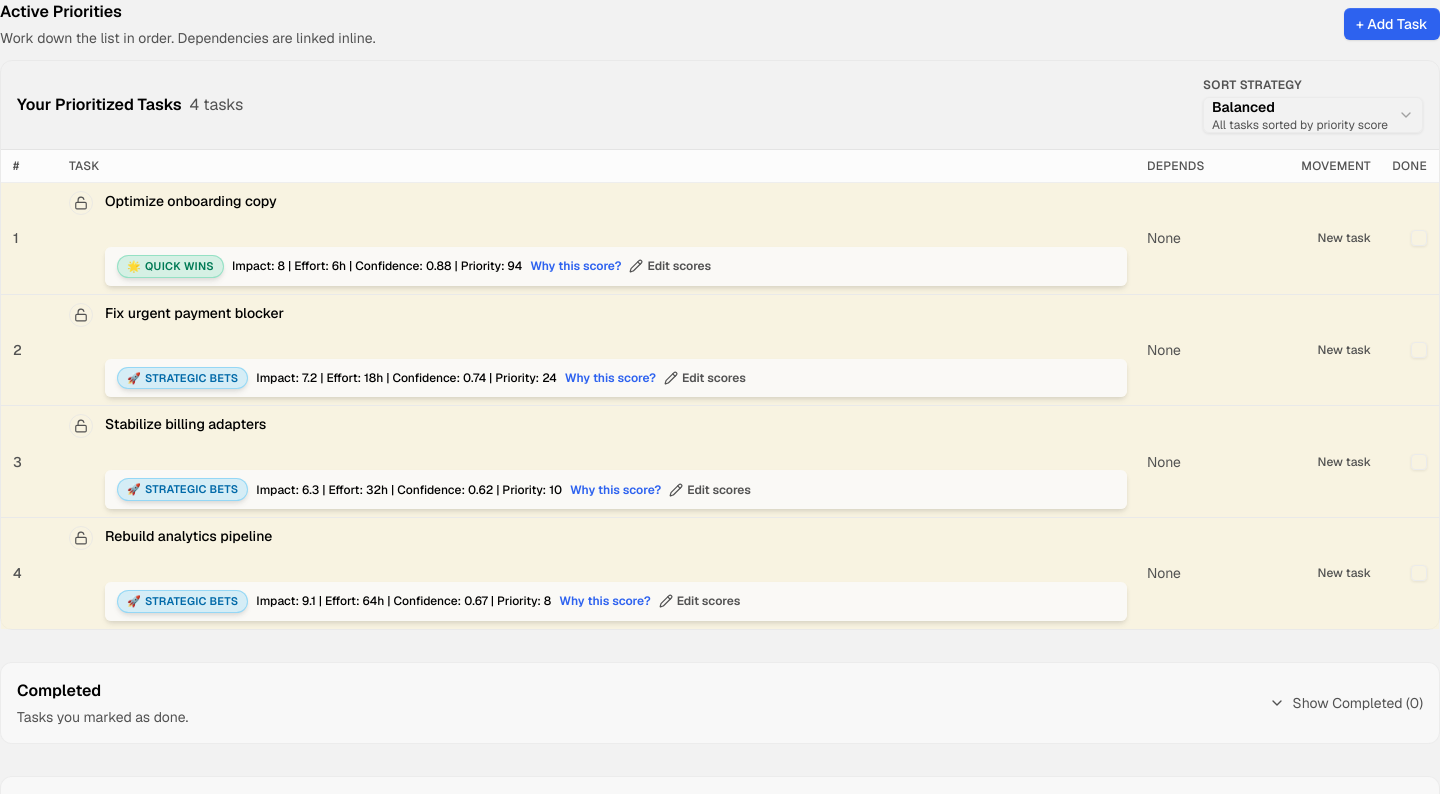
Test: Sorting strategies › shows only Strategic Bets when selected
The image size is (1440, 794).
Expected: the text "Rebuild analytics pipeline" is shown, x1=105 y1=527 x2=272 y2=545
What coordinates should you click on to do the following:
click the dropdown named "Sort Strategy"
I would click on:
 (1313, 115)
Its box is x1=1203 y1=97 x2=1423 y2=133.
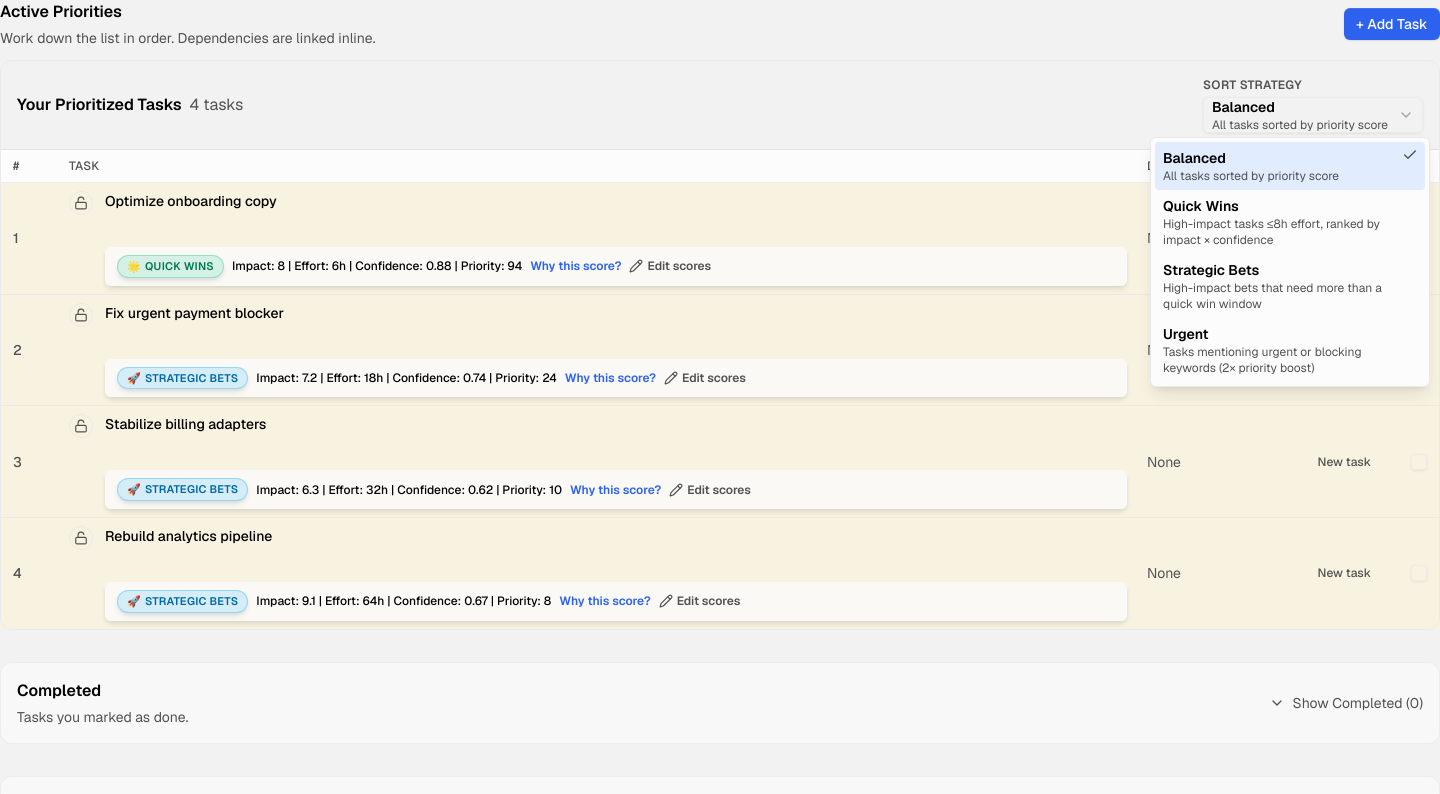
What coordinates should you click on to do the following:
click the option "Strategic Bets"
I would click on:
 (1272, 286)
Its box is x1=1163 y1=261 x2=1382 y2=312.
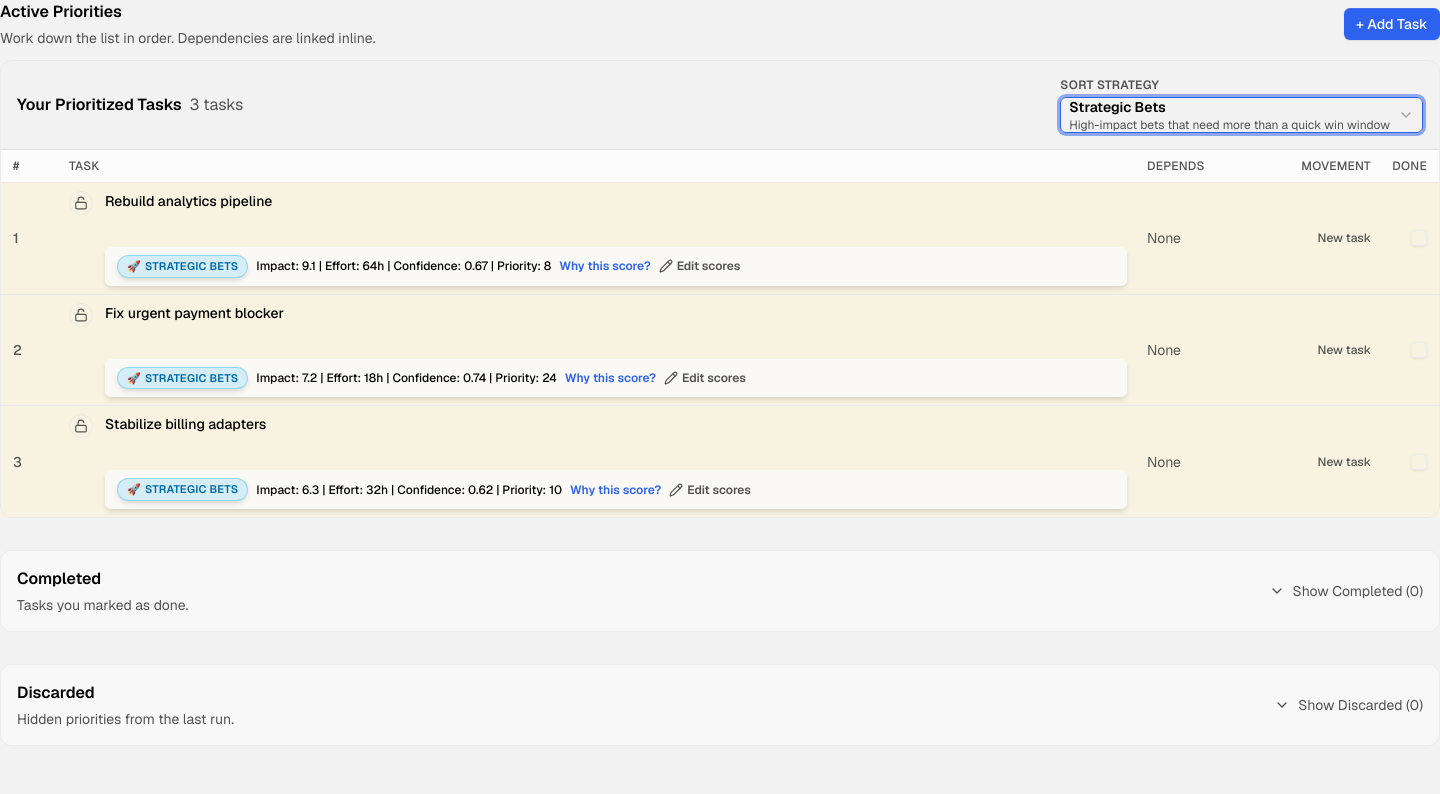
Expected: the text "Rebuild analytics pipeline" is shown, x1=105 y1=192 x2=272 y2=210
Expected: the button "Optimize onboarding copy" is gone
